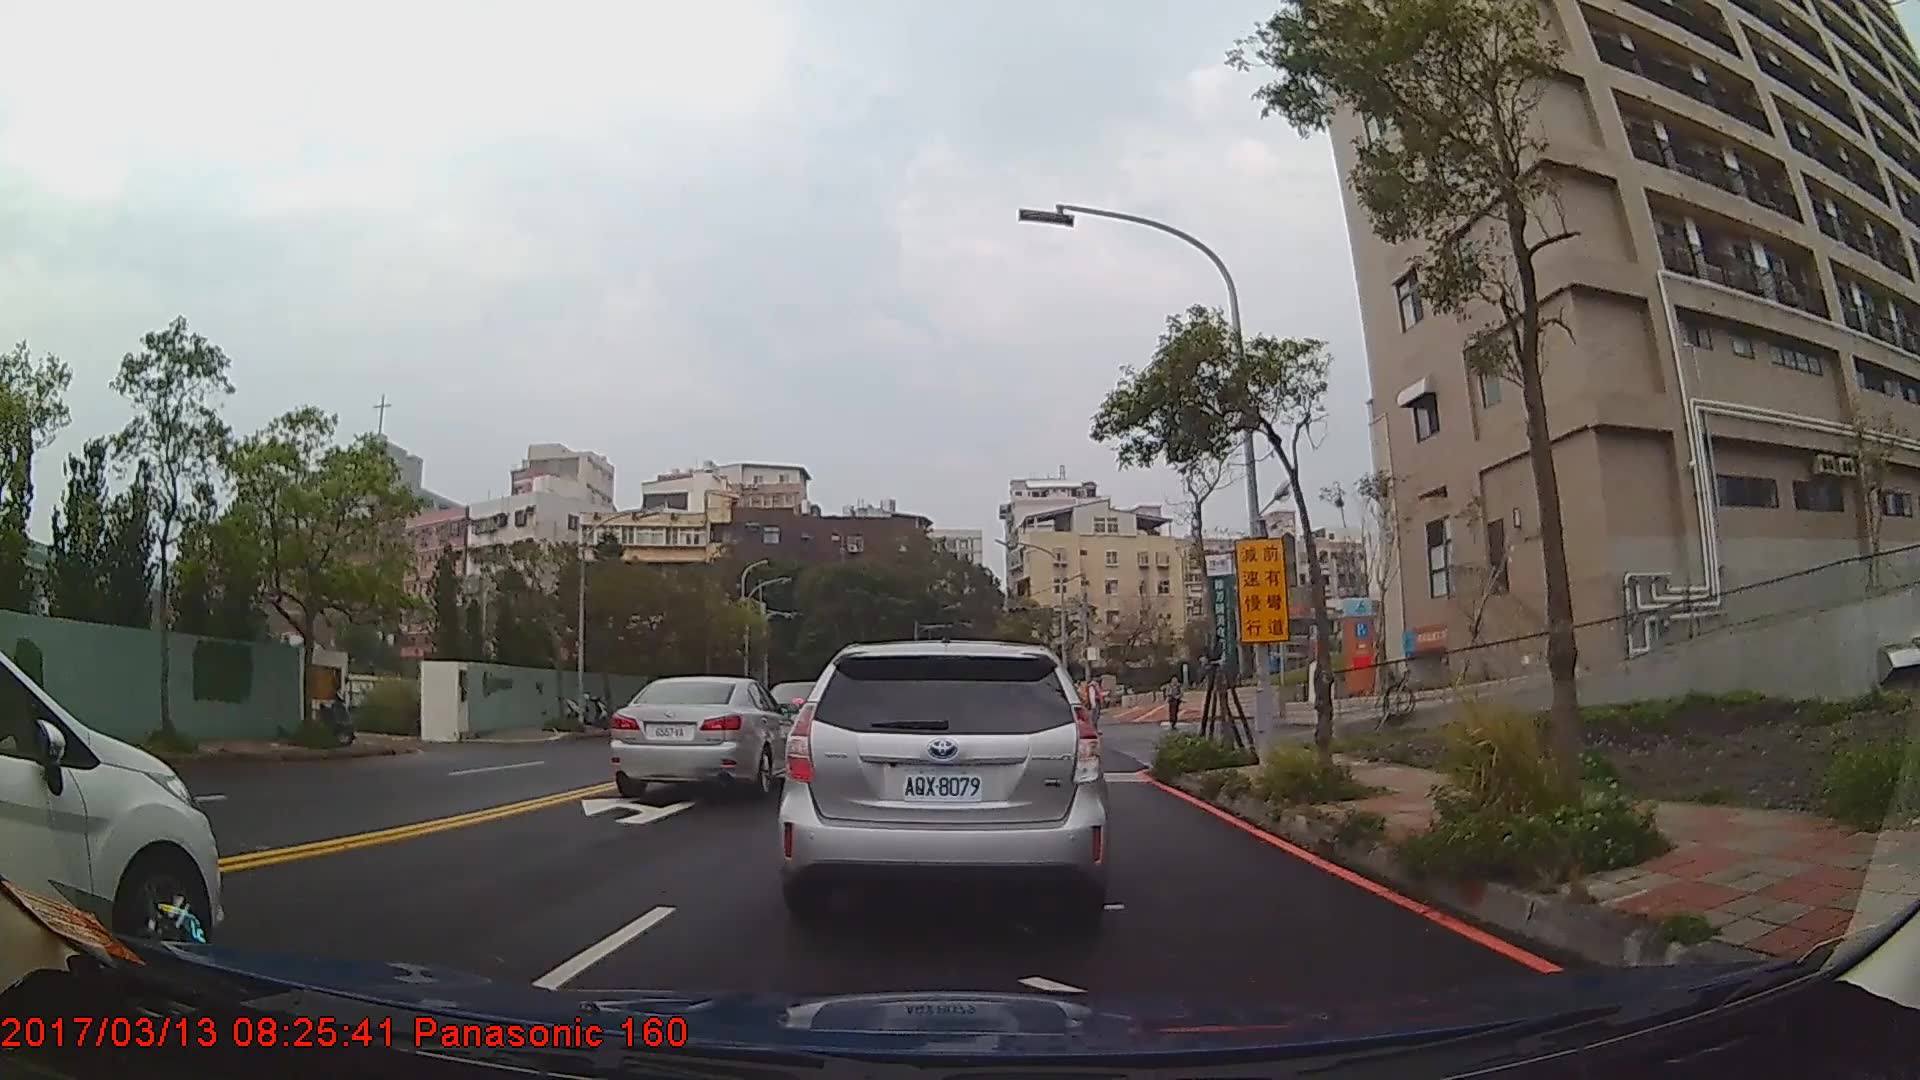pedestrian: (1084, 668, 1110, 742), (1167, 677, 1187, 730)
vehicle: (776, 637, 1112, 936), (0, 652, 226, 967), (611, 674, 797, 797)
